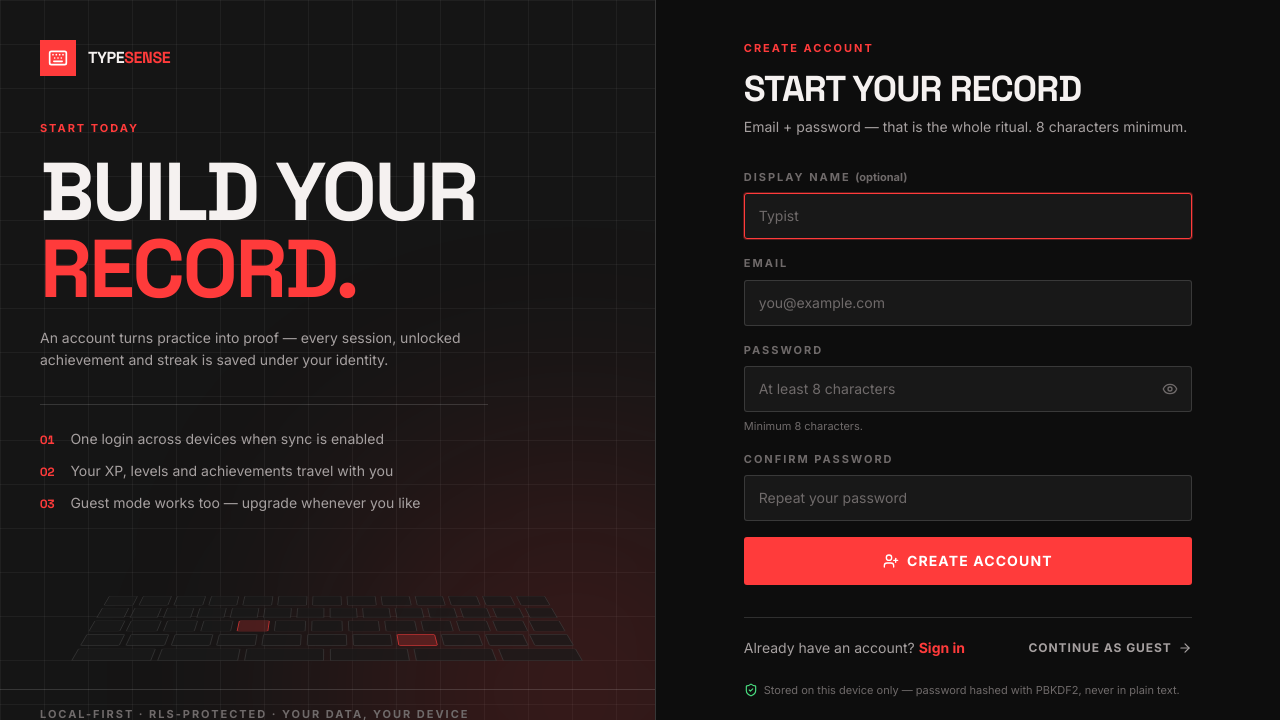
Test: auth pages › flags mismatched passwords
Type "new@example.com" into the field labelled "Email". click: (968, 302)
box: [744, 280, 1192, 326]
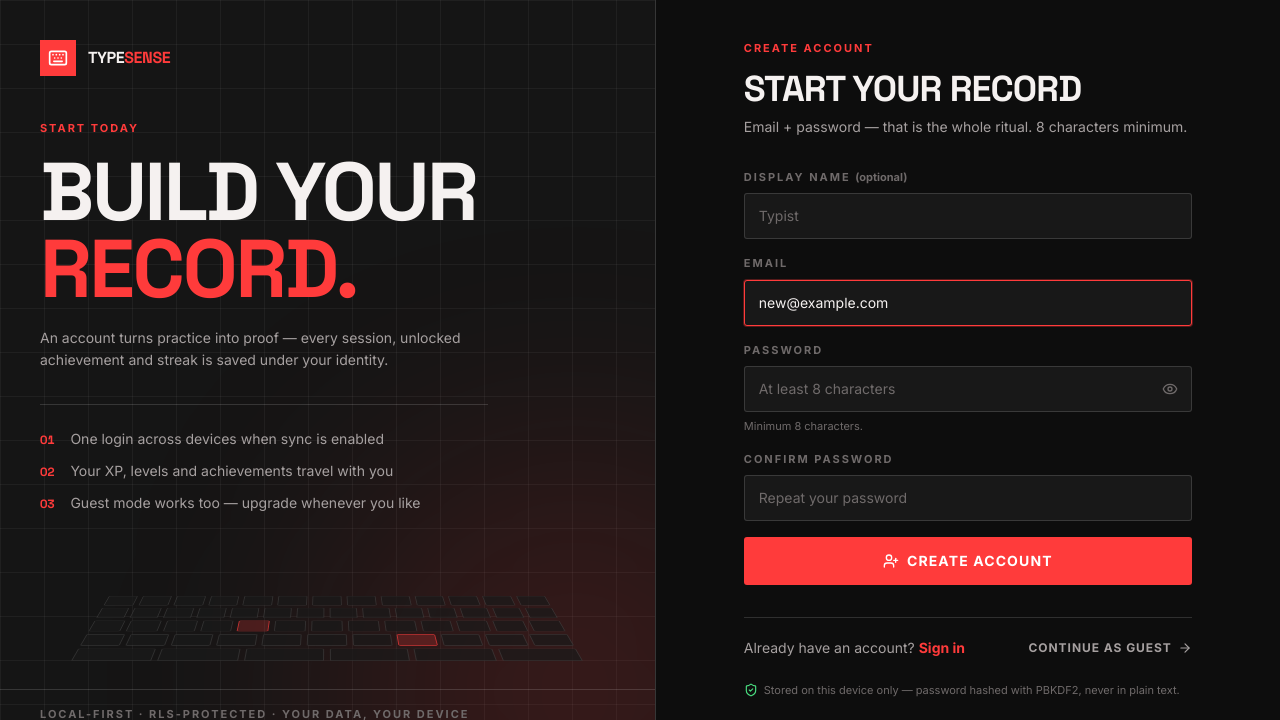
Type "longenough1" into the password field labelled "Password". click: (968, 389)
box: [744, 366, 1192, 412]
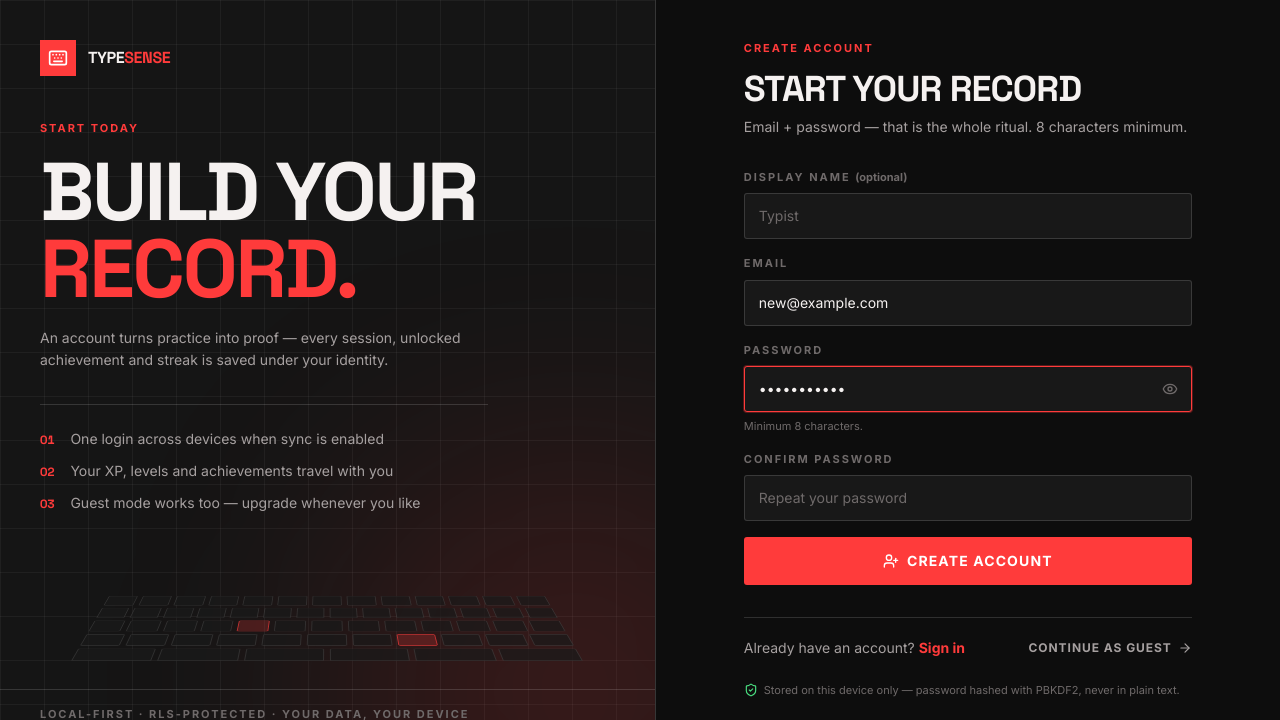
Type "different1" into the password field labelled "Confirm password". click: (968, 498)
box: [744, 475, 1192, 521]
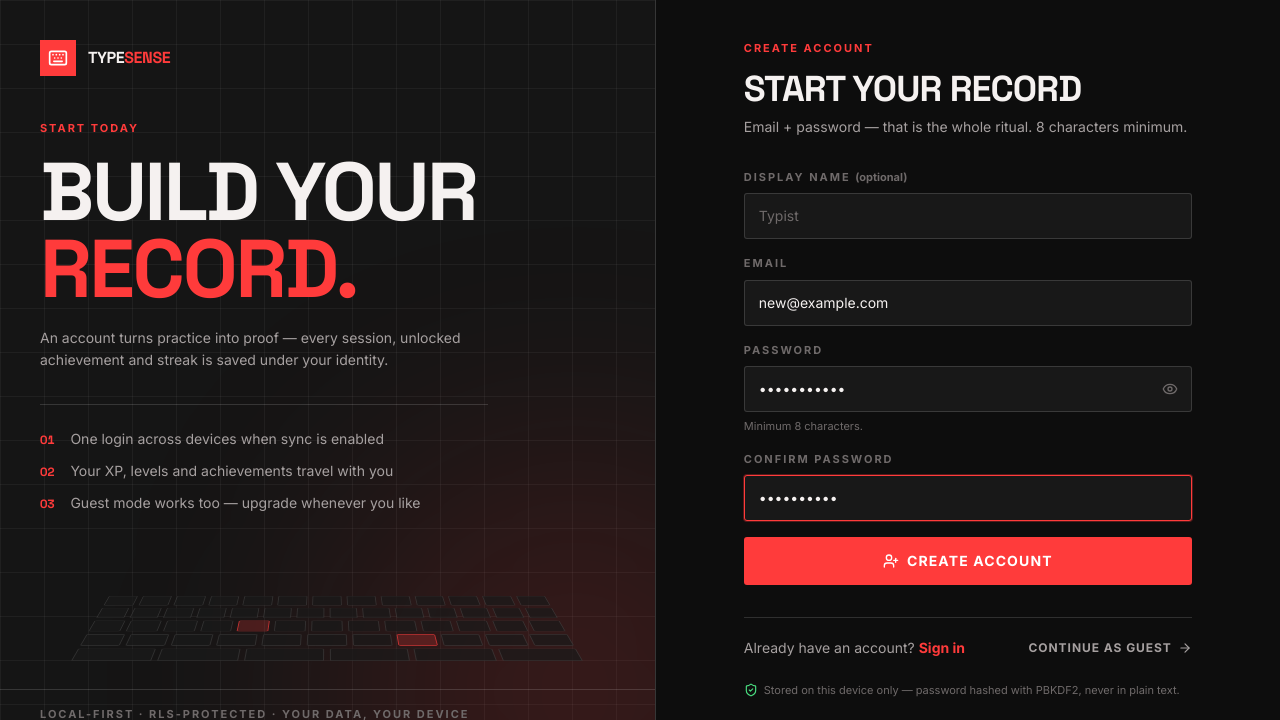
Click the button "Create account". click: (968, 561)
box: [744, 537, 1192, 585]
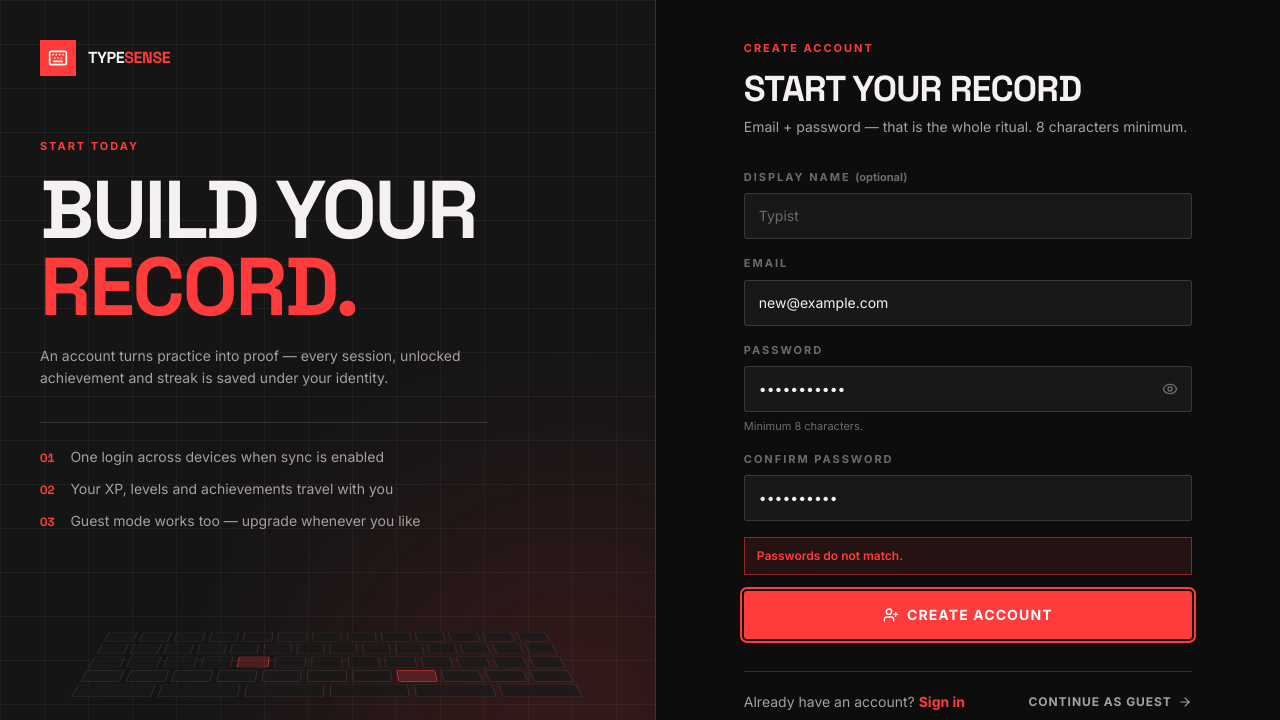
Expected: the message shows "do not match", [757, 548, 903, 563]
